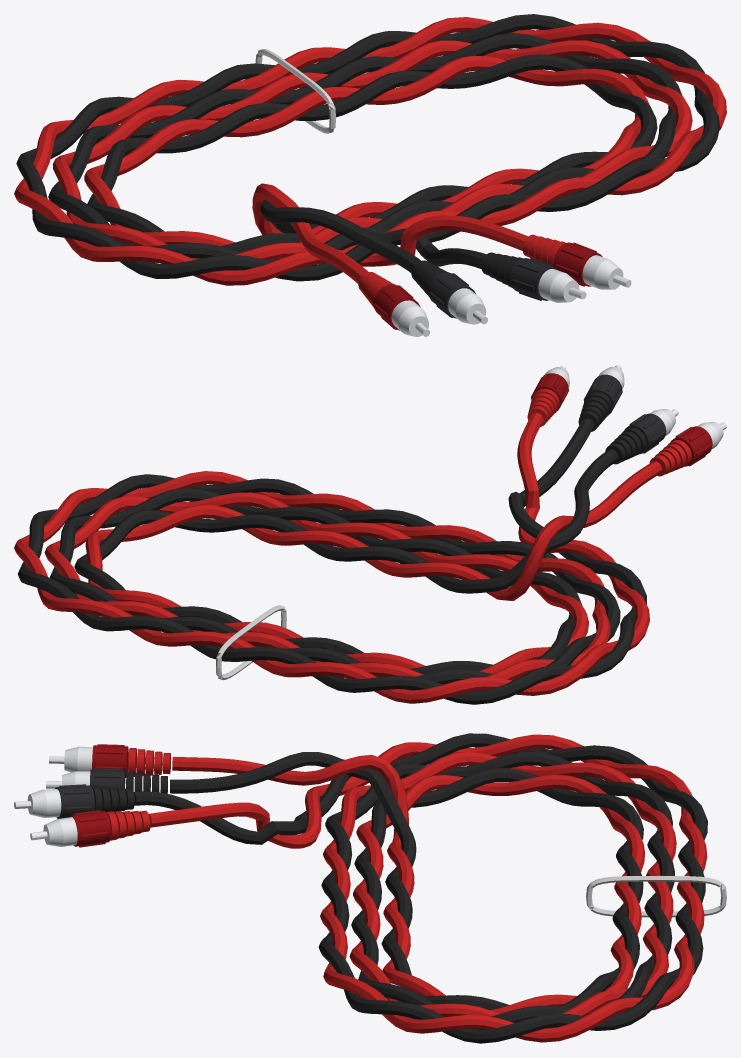
File: rca-cable-2.glb
The picture shows the model from 3 angles, top to bottom: view 1: azimuth 30°, elevation 25°; view 2: azimuth 150°, elevation 25°; view 3: azimuth 270°, elevation 25°; orthographic projection. The views are drawn at different scales.
Visible parts, largest first — view 1: rca-cable; view 2: rca-cable; view 3: rca-cable.
Boxes of the visible parts, x1=… form: rca-cable: x1=14, y1=14, x2=726, y2=336; rca-cable: x1=14, y1=365, x2=726, y2=704; rca-cable: x1=14, y1=733, x2=726, y2=1043.
Bounding box in the file's own units: 0.283 × 0.0426 × 0.2903.
